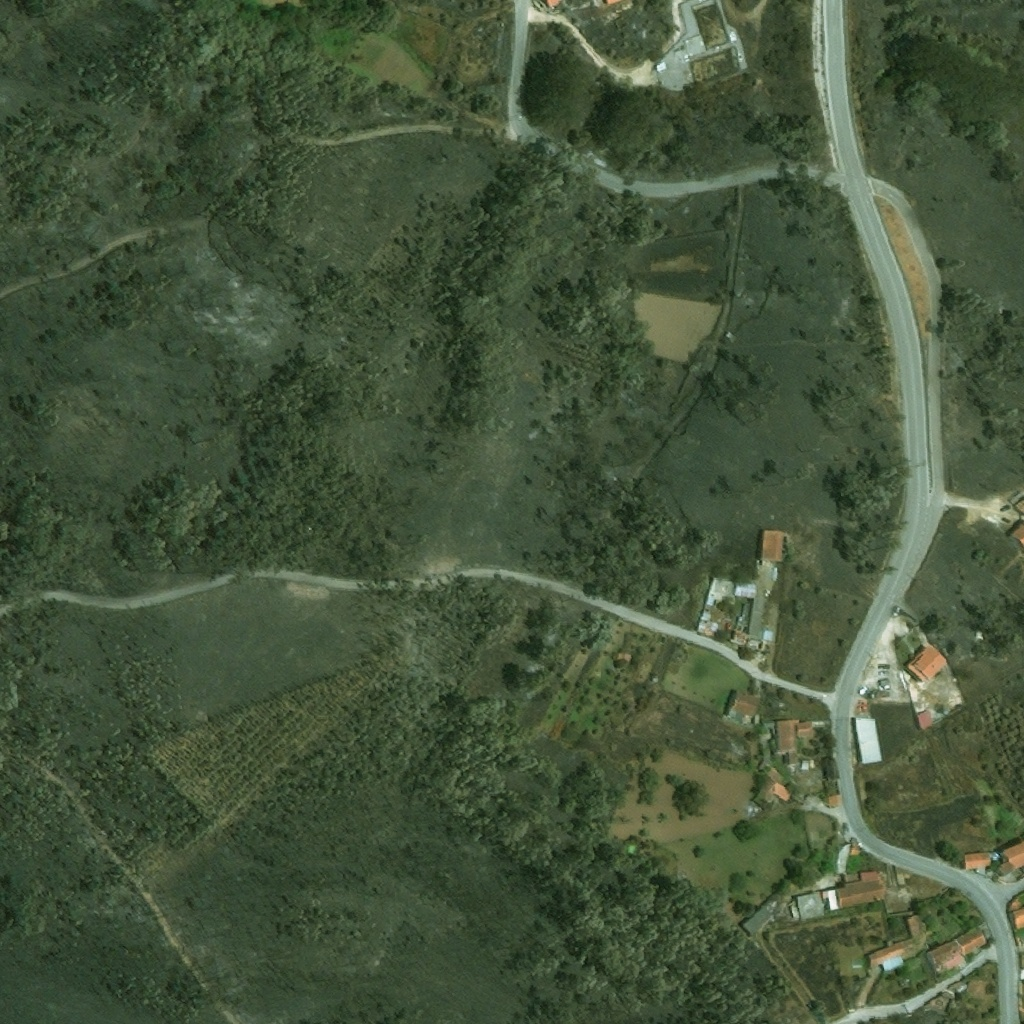0 no-damage: (786, 871, 887, 920), (867, 914, 930, 972), (735, 578, 773, 650), (926, 927, 985, 971), (903, 645, 948, 685), (850, 718, 882, 765), (701, 576, 736, 610), (774, 719, 799, 765), (723, 691, 757, 723), (997, 838, 1023, 875), (742, 904, 774, 934), (756, 530, 784, 562), (682, 35, 705, 61), (695, 611, 718, 637), (769, 782, 792, 803), (963, 852, 991, 869), (821, 756, 839, 782), (913, 711, 933, 730), (728, 629, 748, 647), (794, 721, 814, 738), (744, 638, 760, 649), (827, 795, 841, 807), (797, 759, 812, 769), (865, 853, 877, 865), (721, 331, 733, 343), (653, 62, 665, 73), (848, 845, 858, 856), (762, 631, 773, 640), (761, 720, 774, 727)
3 destroyed: (909, 980, 969, 1023)
4 un-classified: (1007, 519, 1023, 549), (1006, 906, 1023, 932), (1006, 895, 1022, 913), (1013, 496, 1023, 515), (540, 0, 561, 9)
